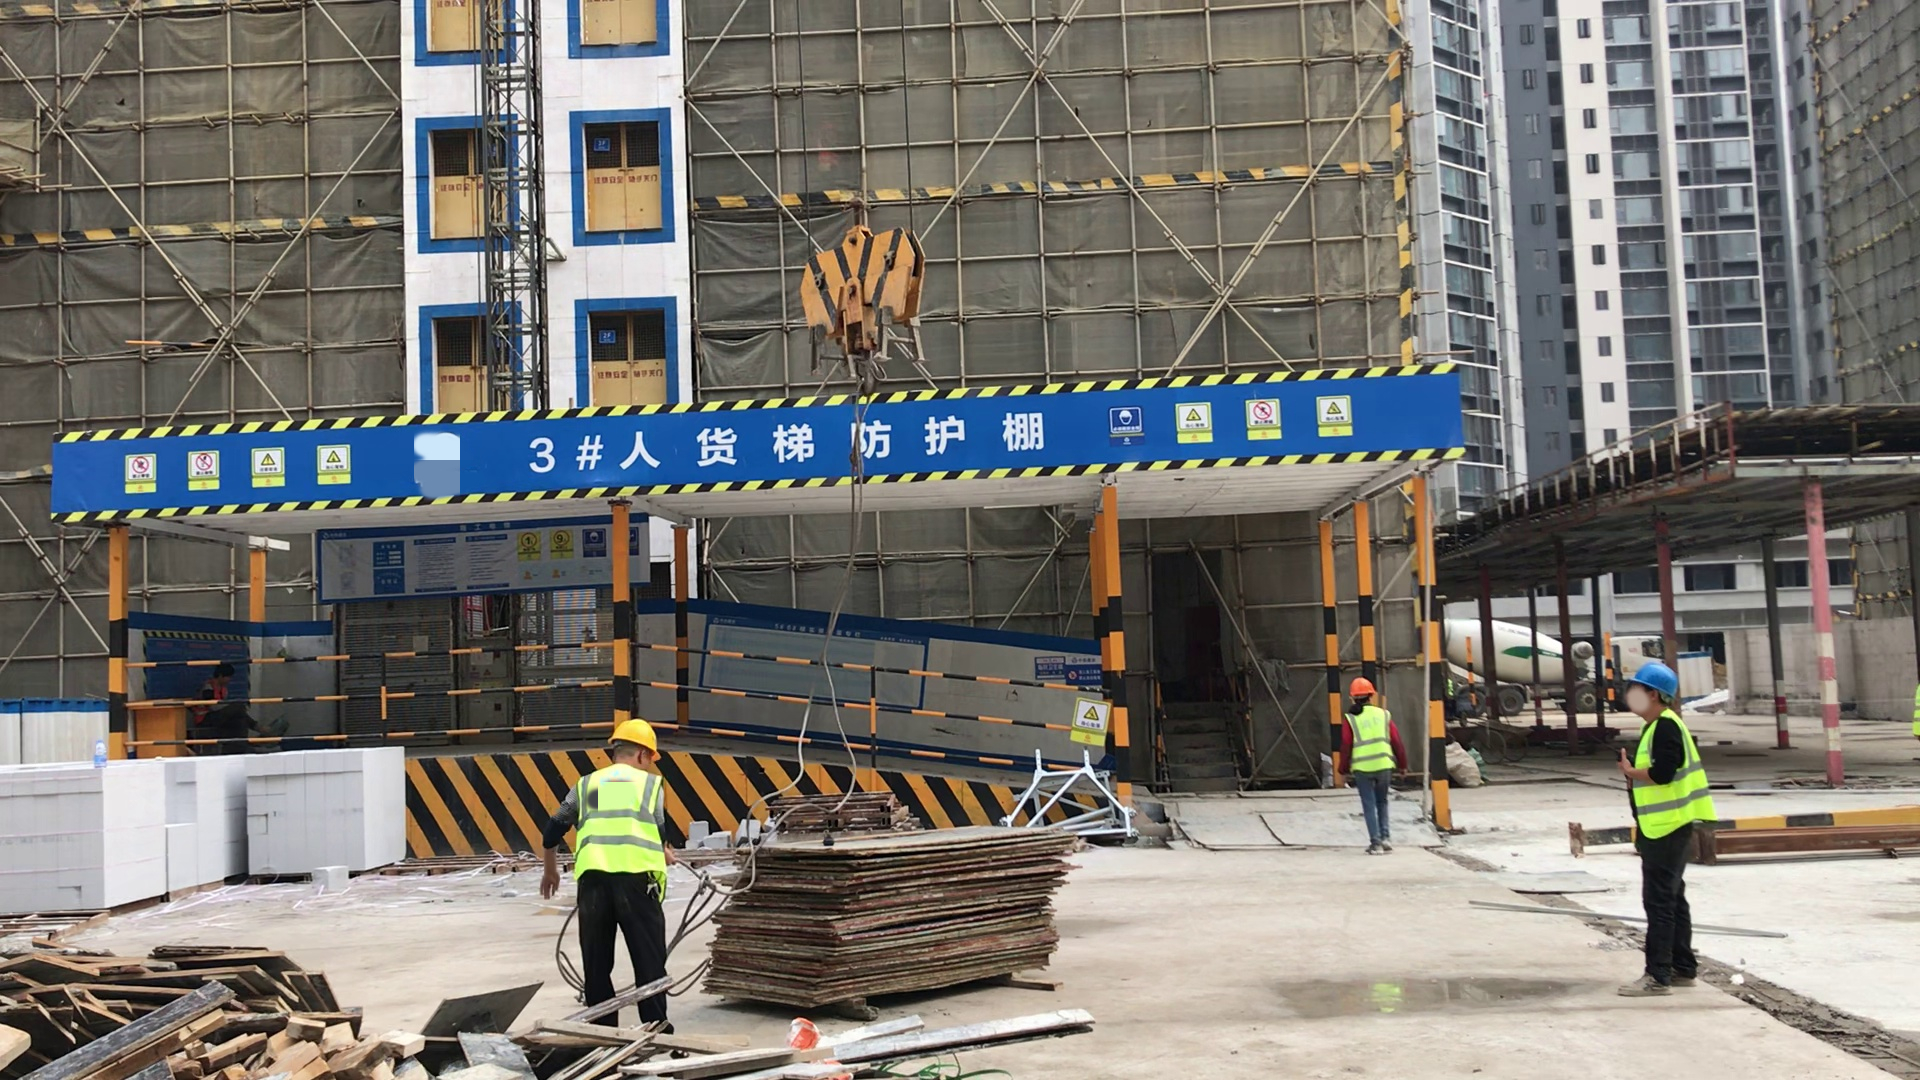board: (710, 824, 1081, 1009)
brick: (3, 739, 407, 913)
helmet: (607, 713, 663, 760), (1628, 661, 1679, 702), (1348, 678, 1378, 701)
hook: (801, 224, 926, 397)
person: (540, 713, 696, 1034), (1615, 661, 1719, 995), (1332, 676, 1414, 854)
slogan: (1102, 393, 1360, 454), (109, 438, 359, 495), (507, 529, 645, 584), (1031, 648, 1105, 689), (1069, 696, 1113, 744)
vest: (575, 765, 669, 891), (1628, 710, 1715, 844), (1342, 705, 1397, 777)
